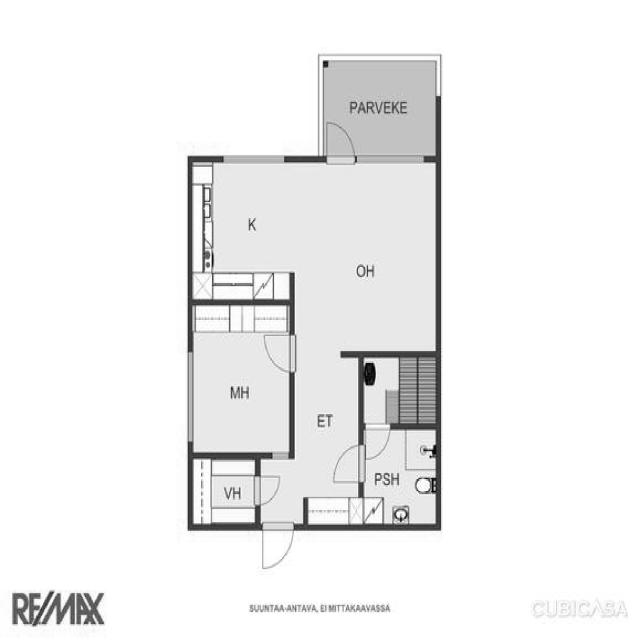door: (322, 115, 360, 172), (258, 520, 296, 572), (254, 331, 298, 375), (330, 442, 365, 486), (360, 423, 390, 462), (250, 475, 281, 509)
window: (213, 148, 288, 170), (183, 349, 197, 445), (356, 152, 426, 168), (265, 448, 291, 464)
zone: (290, 161, 438, 352), (188, 300, 292, 458), (188, 156, 292, 302), (360, 424, 438, 525), (365, 353, 441, 428), (188, 454, 257, 530)
